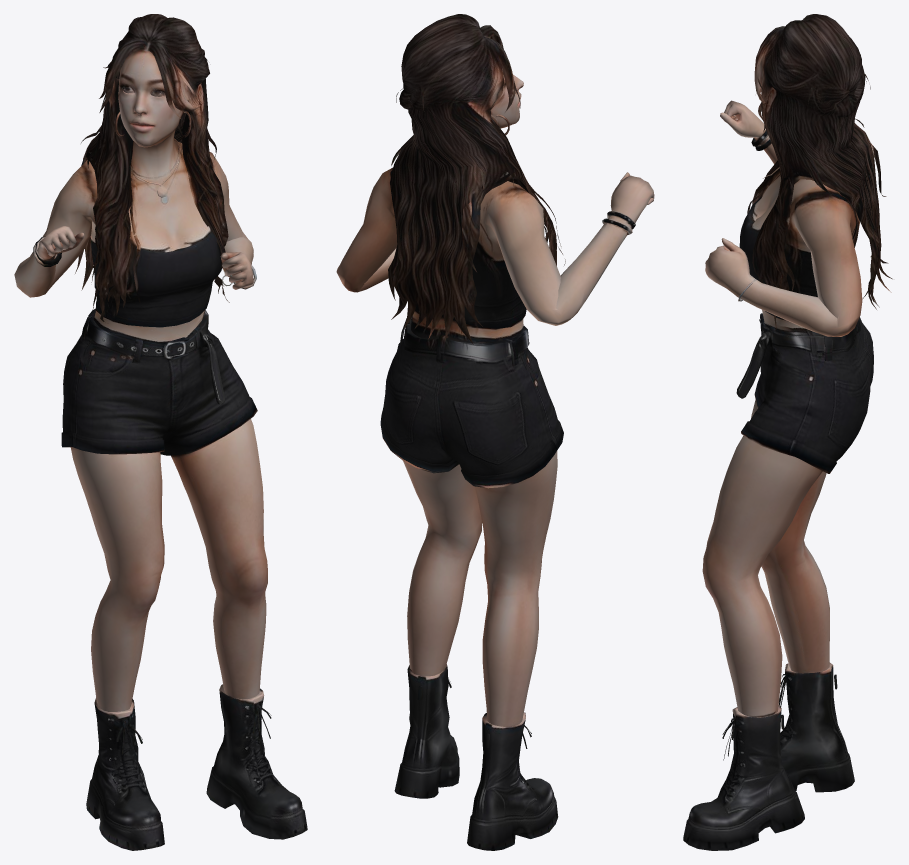
File: fan_05_static_alt_1k.glb
The picture shows the model from 3 angles, left to right: view 1: azimuth 30°, elevation 25°; view 2: azimuth 150°, elevation 25°; view 3: azimuth 270°, elevation 25°; orthographic projection. The views are drawn at different scales.
Parts seen in each view (by area): view 1: fan_05_baked_pose; view 2: fan_05_baked_pose; view 3: fan_05_baked_pose.
Boxes of the visible parts, bbox=[...] form: fan_05_baked_pose: bbox=[14, 14, 307, 850]; fan_05_baked_pose: bbox=[336, 14, 654, 850]; fan_05_baked_pose: bbox=[683, 14, 892, 850].
Size of the model in its own units: 0.3386 by 0.9932 by 0.2416.
Materials: 1 (1 with a texture image).
